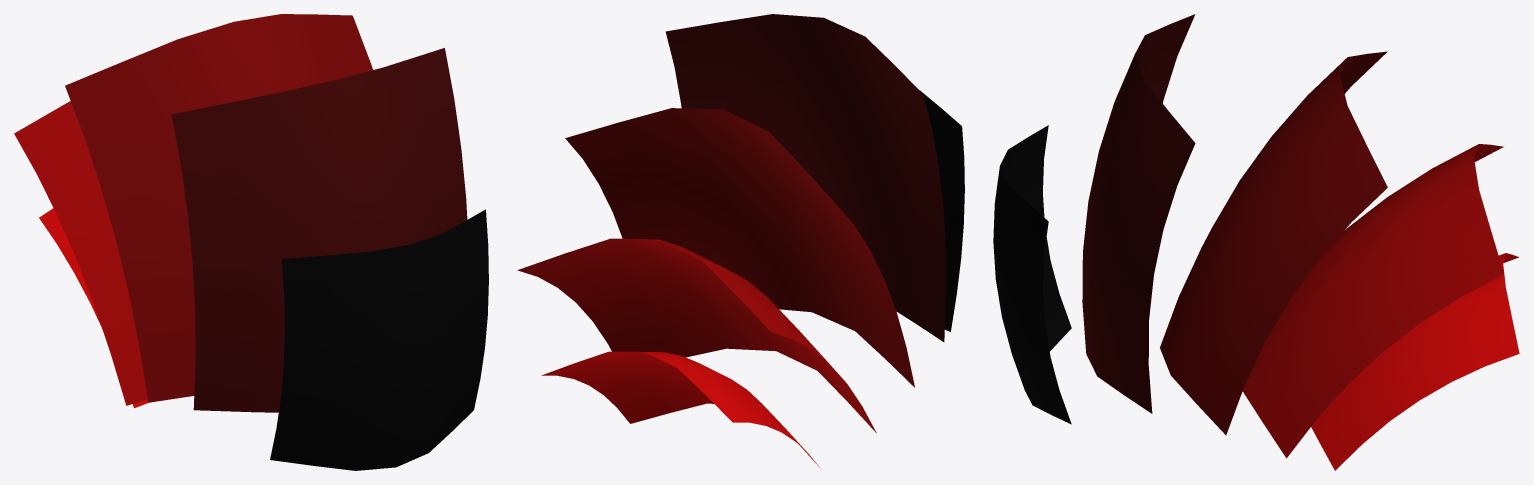
The model's file is SM_Muflus_Horn_Cross_02.fbx.
3 views of the same model, side by side, from view 1: azimuth 30°, elevation 25°; view 2: azimuth 150°, elevation 25°; view 3: azimuth 270°, elevation 25° (orthographic). The views are drawn at different scales.
Parts seen in each view (by area): view 1: SM_Muflus_Horn_Cross_002; view 2: SM_Muflus_Horn_Cross_002; view 3: SM_Muflus_Horn_Cross_002.
Boxes of the visible parts, x1=… form: SM_Muflus_Horn_Cross_002: x1=14, y1=14, x2=488, y2=470; SM_Muflus_Horn_Cross_002: x1=517, y1=14, x2=964, y2=469; SM_Muflus_Horn_Cross_002: x1=993, y1=14, x2=1519, y2=470.
Size of the model in its own units: 22.34 by 28.19 by 36.51.
